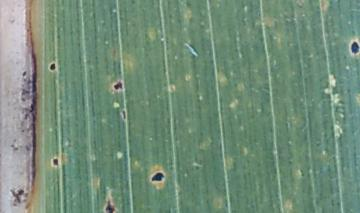tarspot: (150, 172, 165, 182), (105, 199, 115, 213), (350, 41, 360, 54), (112, 80, 123, 90), (121, 109, 127, 120), (49, 62, 56, 71), (52, 158, 59, 166)
